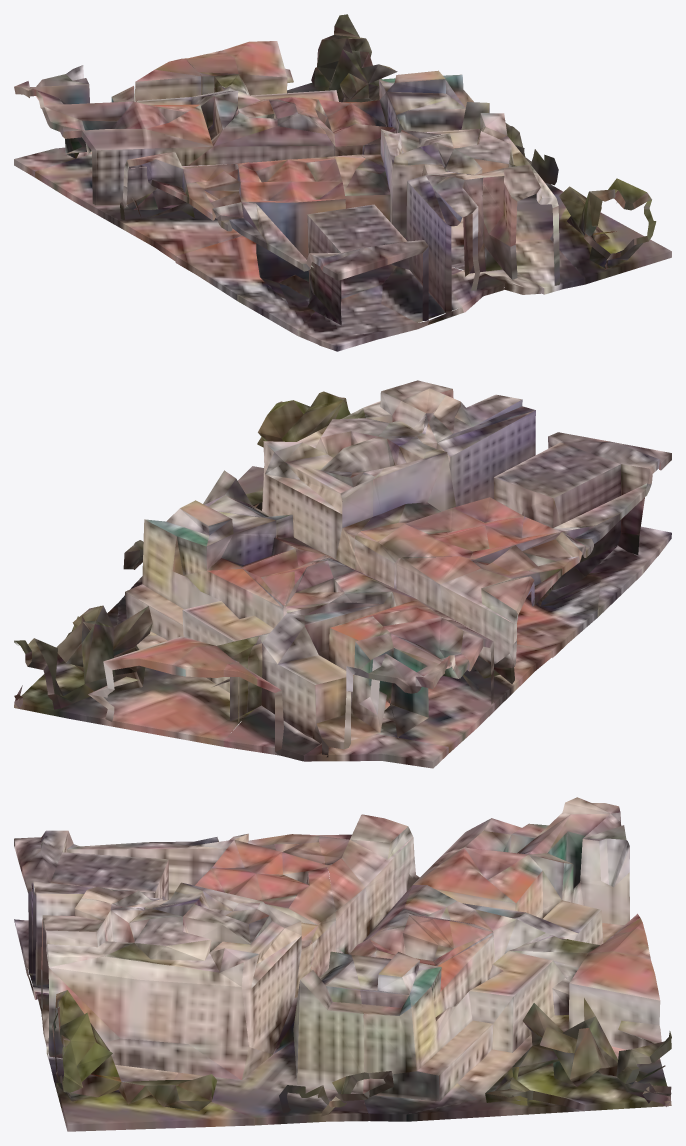
3 renders of one model, top to bottom at view 1: azimuth 30°, elevation 25°; view 2: azimuth 150°, elevation 25°; view 3: azimuth 270°, elevation 25°, orthographic. The views are drawn at different scales.
Parts seen in each view (by area): view 1: Mesh_0; view 2: Mesh_0; view 3: Mesh_0.
Boxes of the visible parts, x1=… form: Mesh_0: x1=14, y1=14, x2=671, y2=351; Mesh_0: x1=14, y1=380, x2=671, y2=768; Mesh_0: x1=14, y1=797, x2=671, y2=1131.
Bounding box in the file's own units: 133 × 38.9 × 165.
Materials: 1 (1 with a texture image).
